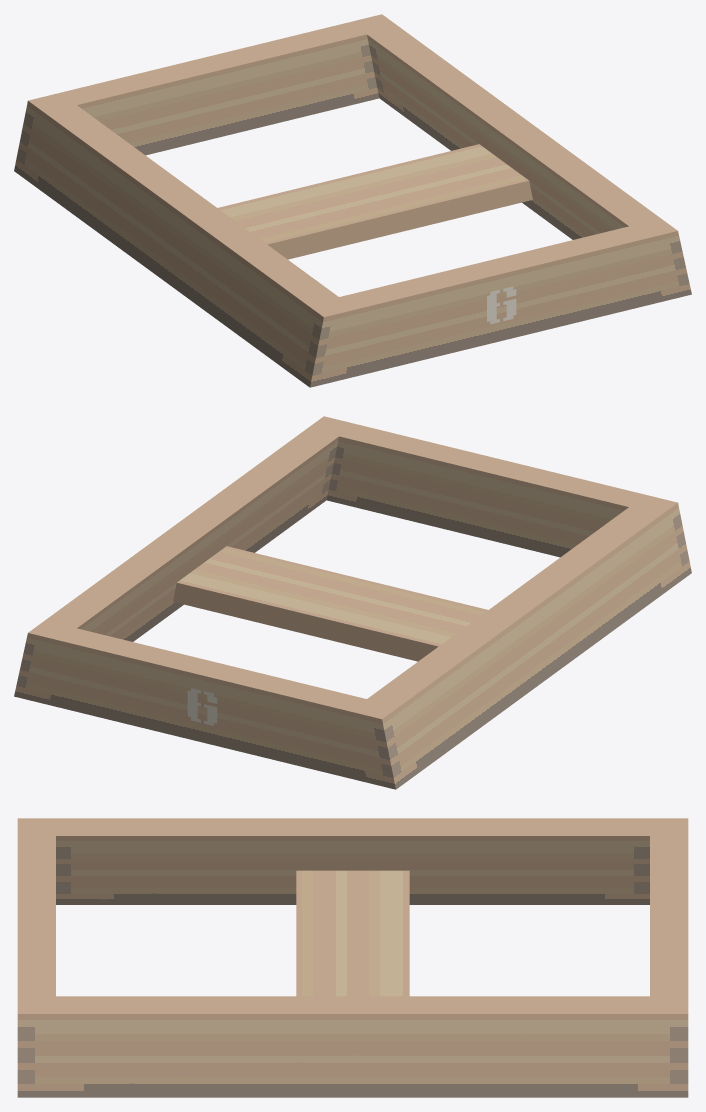
File: 007c_6th_Step.glb
3 renders of one model, top to bottom at view 1: azimuth 30°, elevation 25°; view 2: azimuth 150°, elevation 25°; view 3: azimuth 270°, elevation 25°, orthographic. The views are drawn at different scales.
Parts seen in each view (by area): view 1: part_0; view 2: part_0; view 3: part_0.
Part boxes in pixels (x1,y1,x2,y2): part_0: [14, 14, 691, 387]; part_0: [14, 416, 691, 789]; part_0: [17, 818, 688, 1097].
Size of the model in its own units: 0.5961 by 0.1 by 0.8087.
Materials: 1 (1 with a texture image).
